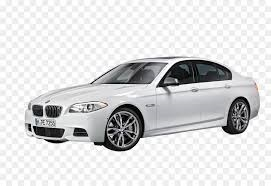bmw: (11, 53, 271, 153)
